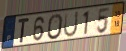1: (82, 10, 91, 36)
5: (96, 6, 111, 35)
6: (33, 15, 46, 42)
O: (47, 13, 63, 41)
T: (17, 17, 30, 44)
U: (63, 10, 80, 39)
